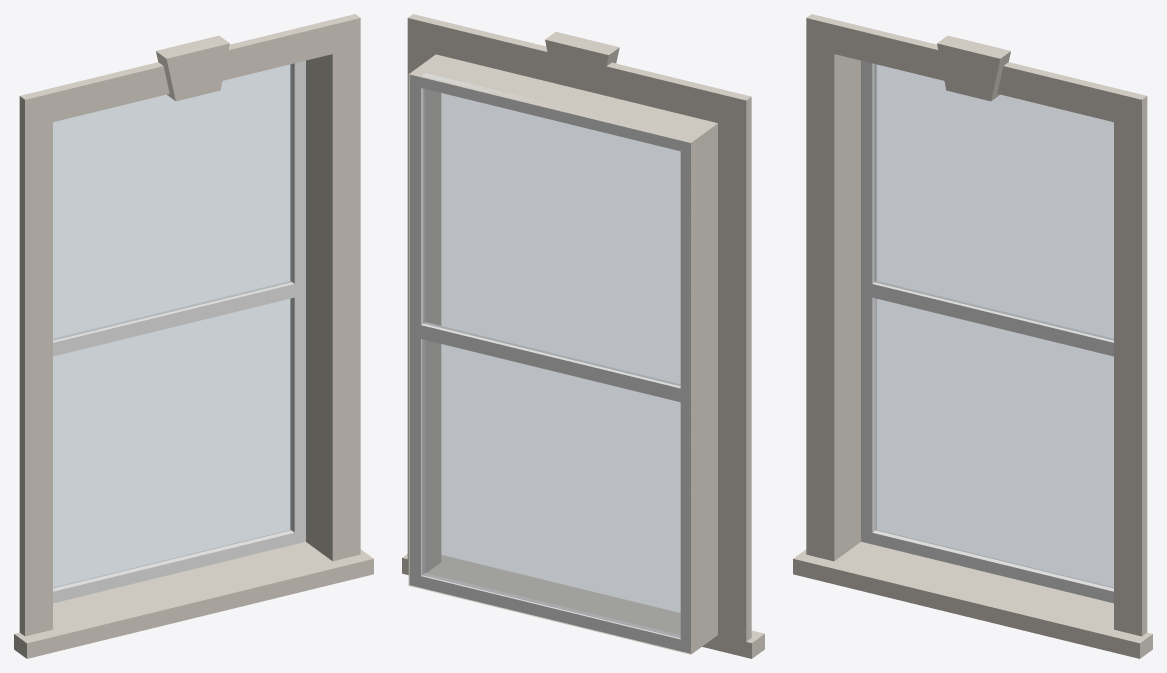
File: win_dh_stone_1.5x2.6.glb
3 views of the same model, side by side, from view 1: azimuth 30°, elevation 25°; view 2: azimuth 150°, elevation 25°; view 3: azimuth 330°, elevation 25° (orthographic).
Parts seen in each view (by area): view 1: win_dh; view 2: win_dh; view 3: win_dh.
Boxes of the visible parts, bbox=[...] form: win_dh: bbox=[14, 14, 373, 658]; win_dh: bbox=[402, 14, 764, 658]; win_dh: bbox=[793, 14, 1152, 658].
Bounding box in the file's own units: 1.86 × 2.89 × 0.37.
